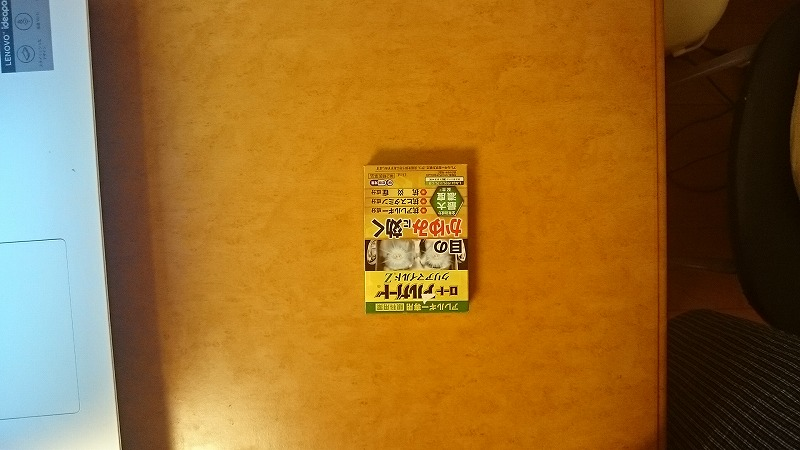C: (358, 155, 477, 323)
